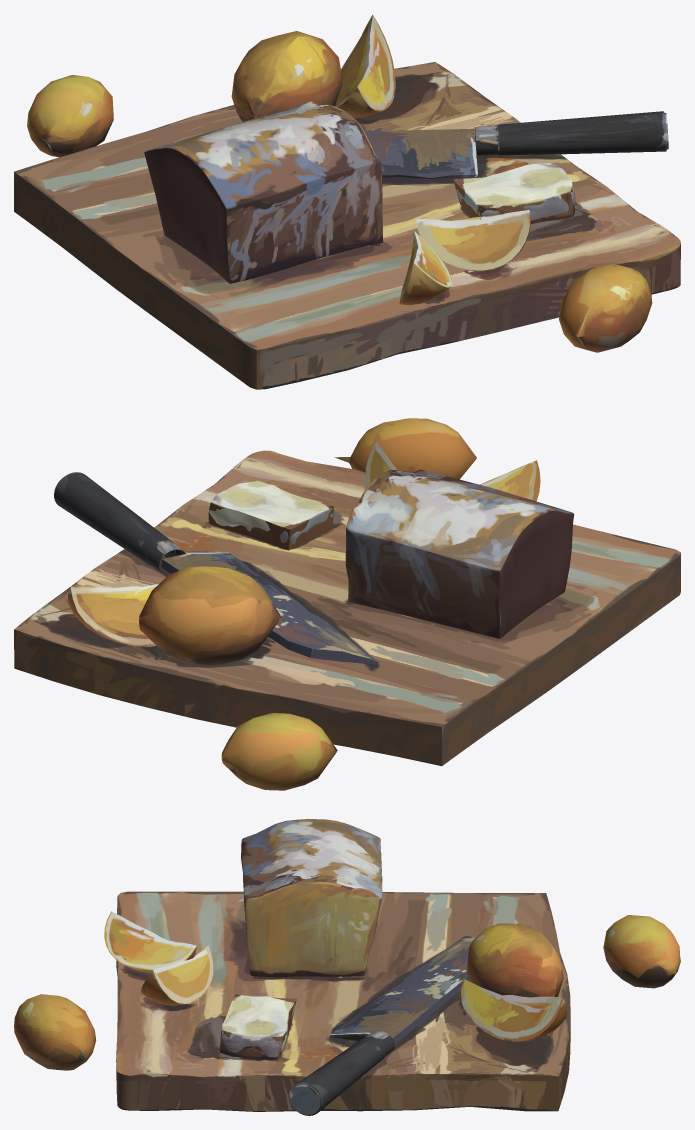
File: stillLife.obj
3 views of the same model, one above another, from view 1: azimuth 30°, elevation 25°; view 2: azimuth 150°, elevation 25°; view 3: azimuth 270°, elevation 25° (orthographic). The views are drawn at different scales.
Parts seen in each view (by area): view 1: food; view 2: food; view 3: food.
Part boxes in pixels (box(x1,y1,x2,y2)): food: box(14, 14, 680, 389); food: box(14, 418, 680, 790); food: box(14, 819, 680, 1115).
Size of the model in its own units: 2.2 by 0.6268 by 2.76.
Materials: 2 (2 with a texture image).
